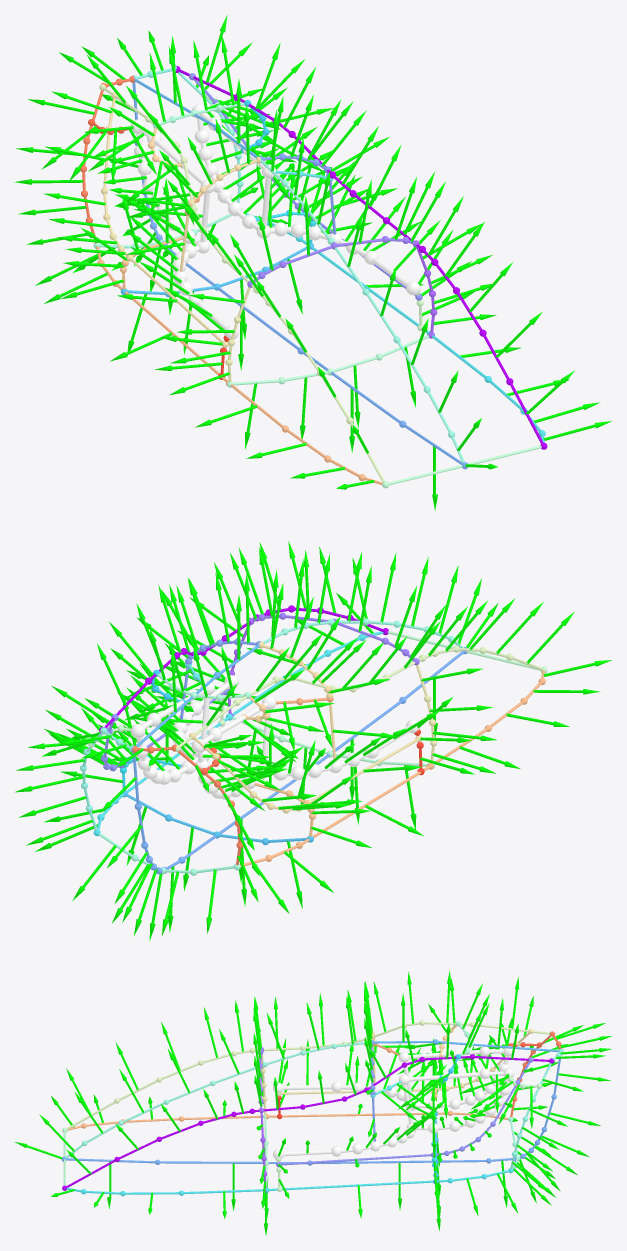
File: t2f_hand_vacuum.gltf
3 renders of one model, top to bottom at view 1: azimuth 30°, elevation 25°; view 2: azimuth 150°, elevation 25°; view 3: azimuth 270°, elevation 25°, orthographic. The views are drawn at different scales.
Bounding box in the file's own units: 0.5216 × 0.4443 × 1.1.
